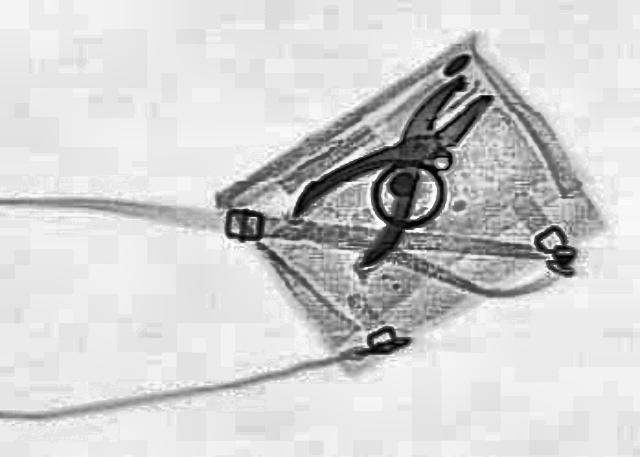Pliers: (266, 59, 530, 267)
